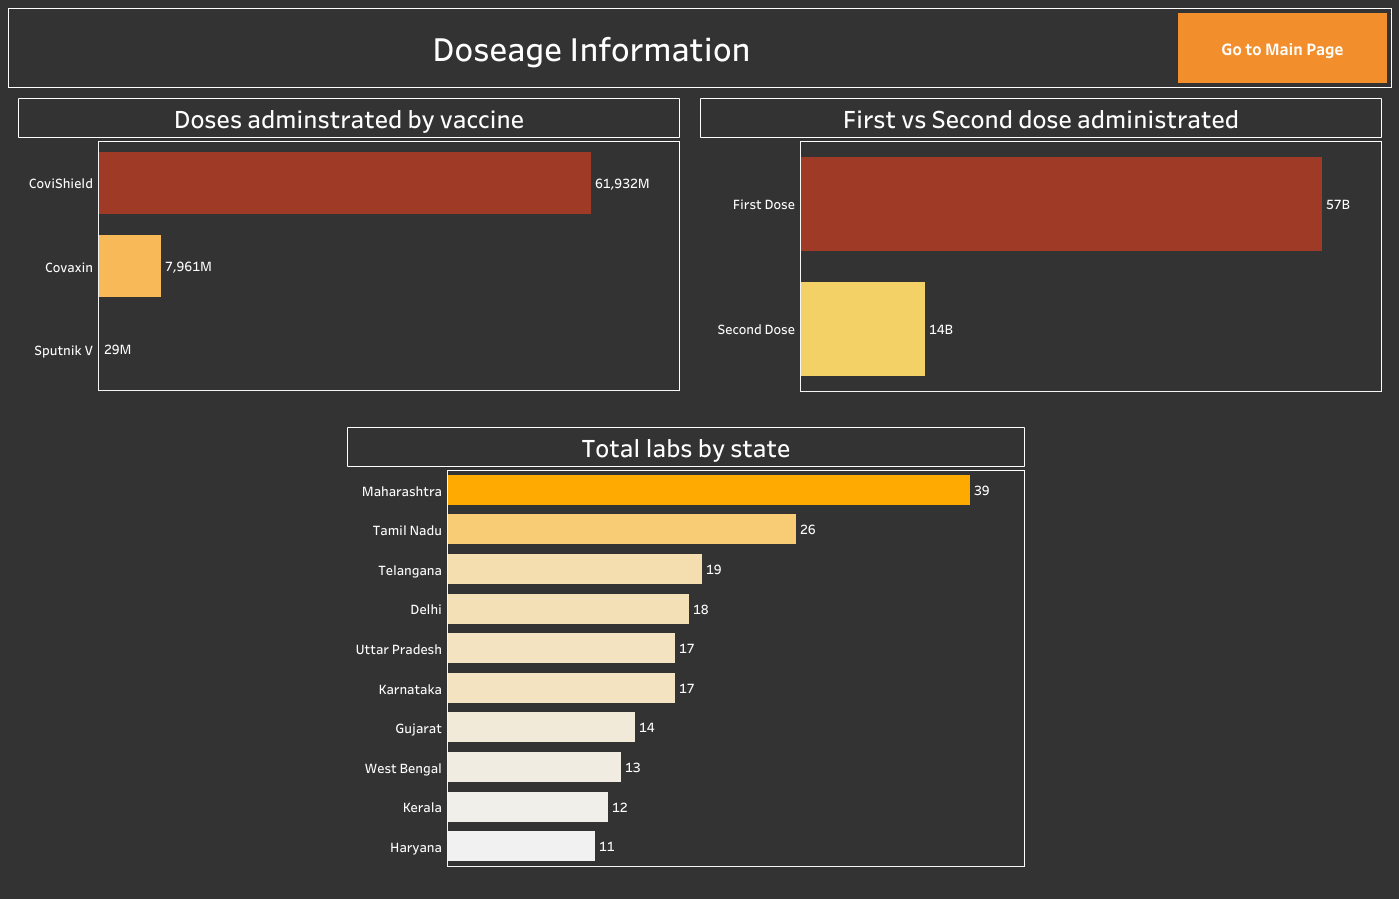

The dashboard page shown, as its layout file describes it:
{"tool":"tableau","page":{"name":"Doses Dashboard","canvas":[1400,900],"ordinal":0},"visuals":[{"type":"text","box":[9,9,1165,78]},{"type":"dashboard-object","box":[1174,9,217,78]},{"type":"worksheet","title":"Doses adminstrated by vaccine","mark":"Automatic","box":[8,88,682,314]},{"type":"worksheet","title":"First vs second dose administration","mark":"Automatic","box":[690,88,702,314]},{"type":"blank","box":[8,402,314,490]},{"type":"worksheet","title":"Total Labs","mark":"Automatic","rows":["state"],"cols":["ICMRTestingLabs.csv_15748A016539483DB8345C967A083AC6"],"box":[322,402,728,490]},{"type":"blank","box":[1050,402,342,490]}]}

Visuals, with their boxes in screenshot pixels (x1, y1, x2, y2), scaled from the page's 1400x900 canvas onto the 1399x899 screenshot:
text: [9,9,1173,87]
dashboard-object: [1173,9,1390,87]
"Doses adminstrated by vaccine" worksheet: [8,88,690,402]
"First vs second dose administration" worksheet: [690,88,1391,402]
blank: [8,402,322,891]
"Total Labs" worksheet: [322,402,1049,891]
blank: [1049,402,1391,891]
